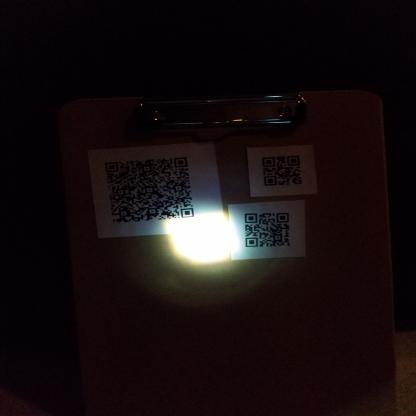qr: (101, 156, 197, 226), (243, 209, 293, 249), (259, 152, 306, 187)
